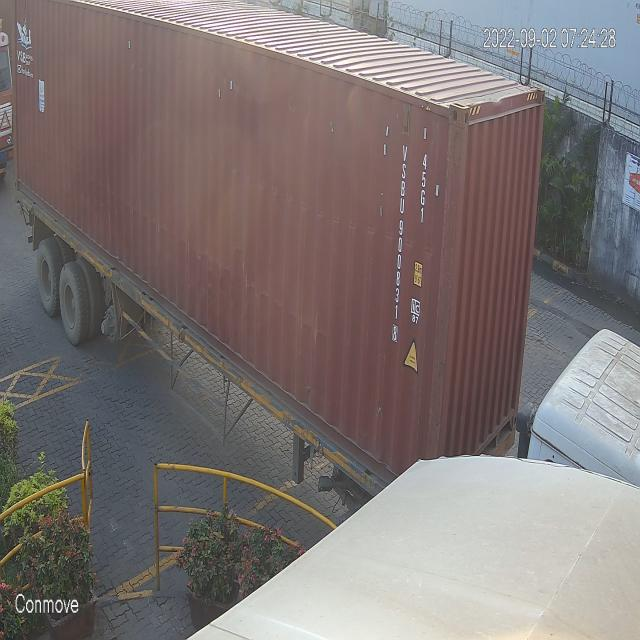dent: (46, 72, 397, 356)
